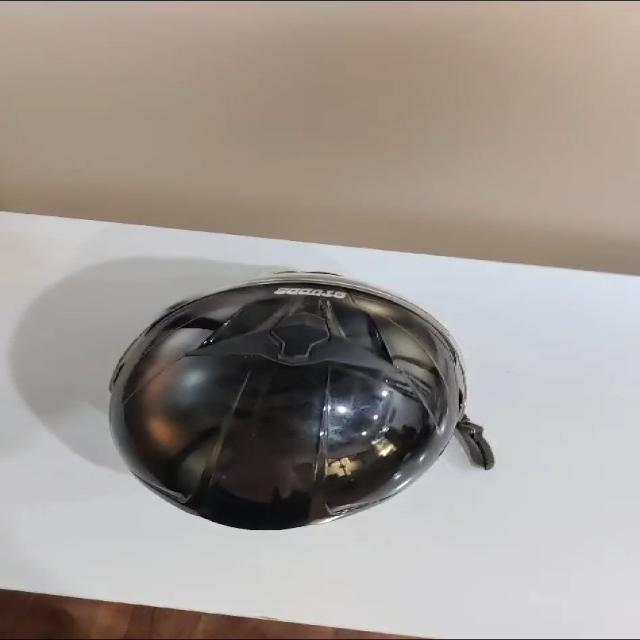helmet: (111, 273, 493, 529)
